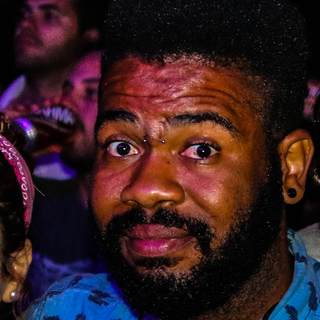eye: (100, 134, 143, 163), (174, 139, 223, 163)
